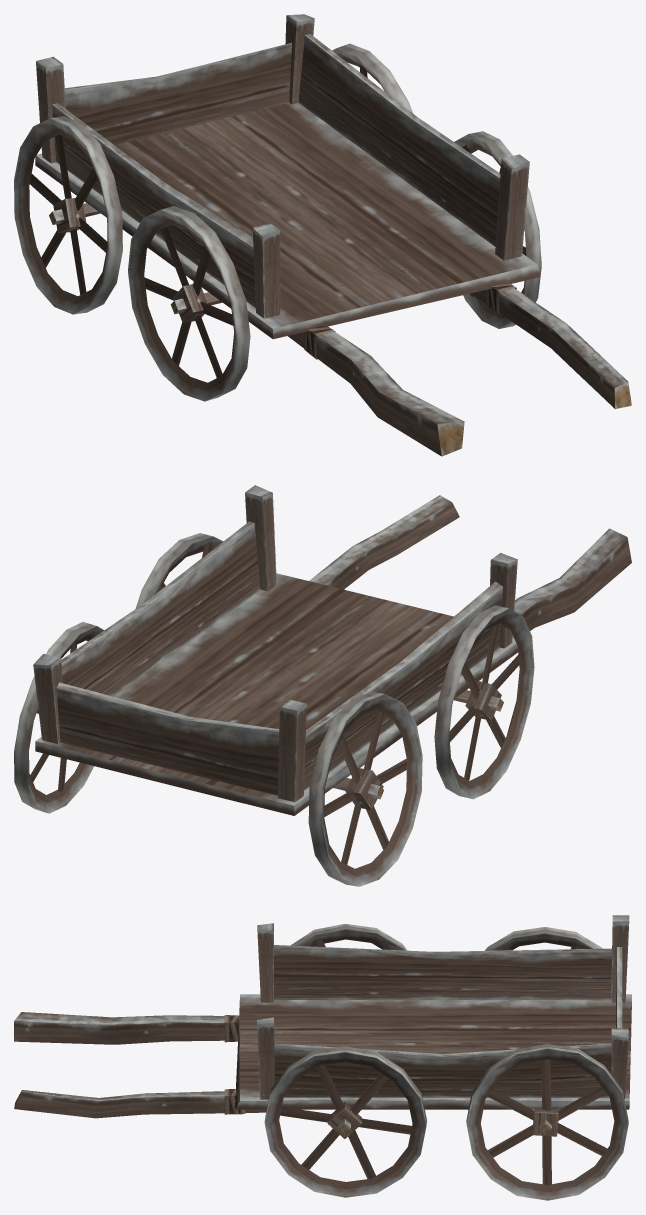
File: snow_a_r13.fbx
3 views of the same model, one above another, from view 1: azimuth 30°, elevation 25°; view 2: azimuth 150°, elevation 25°; view 3: azimuth 270°, elevation 25° (orthographic). The views are drawn at different scales.
Visible parts, largest first — view 1: snow_a_r13; view 2: snow_a_r13; view 3: snow_a_r13.
Part boxes in pixels (x1=…): snow_a_r13: x1=14, y1=14, x2=631, y2=456; snow_a_r13: x1=14, y1=485, x2=631, y2=886; snow_a_r13: x1=14, y1=915, x2=631, y2=1200.
Bounding box in the file's own units: 238 × 137 × 462.
